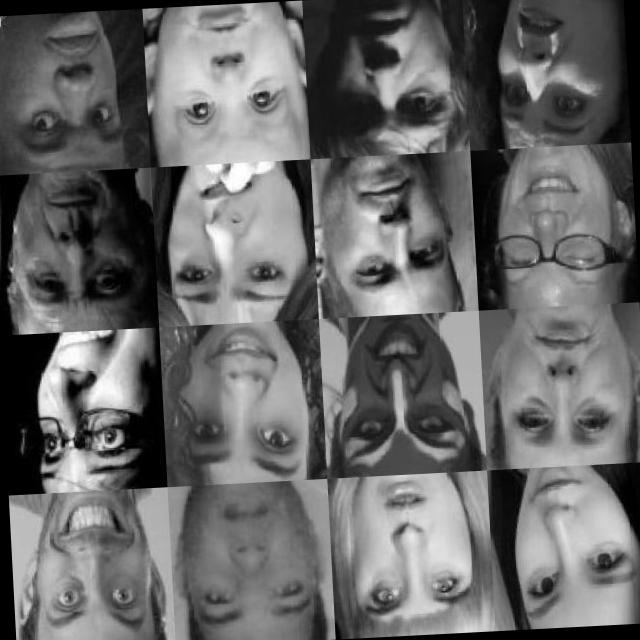angry: (327, 316, 479, 466), (494, 308, 633, 466), (0, 176, 144, 324), (478, 0, 618, 139)
fear: (157, 1, 305, 156), (8, 331, 148, 483), (313, 0, 460, 139)
happy: (486, 148, 630, 295), (505, 469, 640, 610), (178, 326, 308, 472), (29, 496, 162, 636)
neutral: (336, 478, 491, 628), (0, 13, 137, 169), (326, 166, 466, 306)
sad: (183, 482, 328, 634), (160, 174, 306, 314)
